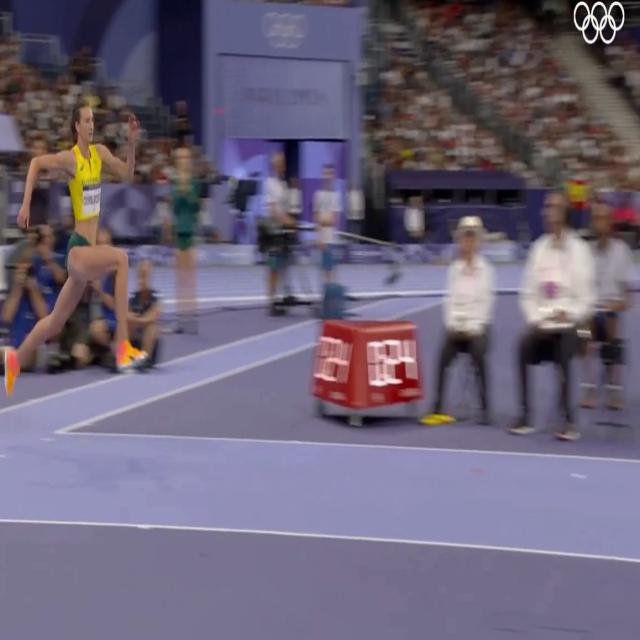run: (3, 97, 152, 399)
